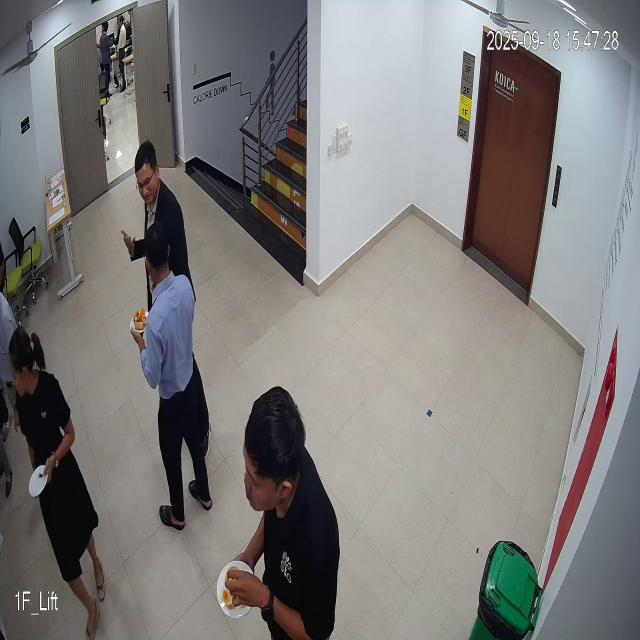face: (130, 139, 165, 208)
